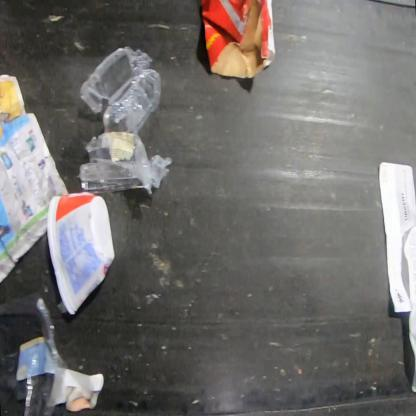cardboard: (200, 0, 276, 80)
rigid_plastic: (79, 46, 173, 196), (46, 192, 116, 317)
soft_plastic: (0, 292, 66, 415)
